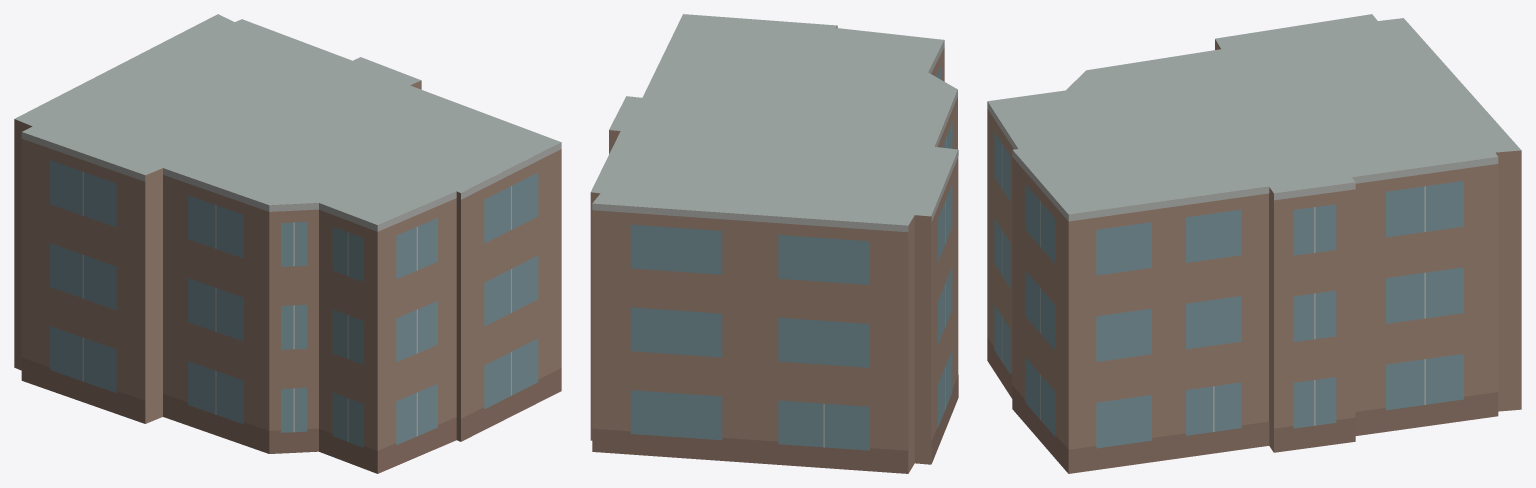
File: survey-upis-32663418.glb
3 renders of one model, left to right at view 1: azimuth 30°, elevation 25°; view 2: azimuth 150°, elevation 25°; view 3: azimuth 270°, elevation 25°, orthographic. The views are drawn at different scales.
Visible parts, largest first — view 1: survey-upis-32663418.tmp; view 2: survey-upis-32663418.tmp; view 3: survey-upis-32663418.tmp.
Boxes of the visible parts, box(x1,y1,x2,y2) form: survey-upis-32663418.tmp: box(14, 14, 561, 473); survey-upis-32663418.tmp: box(590, 14, 958, 473); survey-upis-32663418.tmp: box(987, 14, 1521, 473).
Size of the model in its own units: 15.11 by 9.1 by 17.
